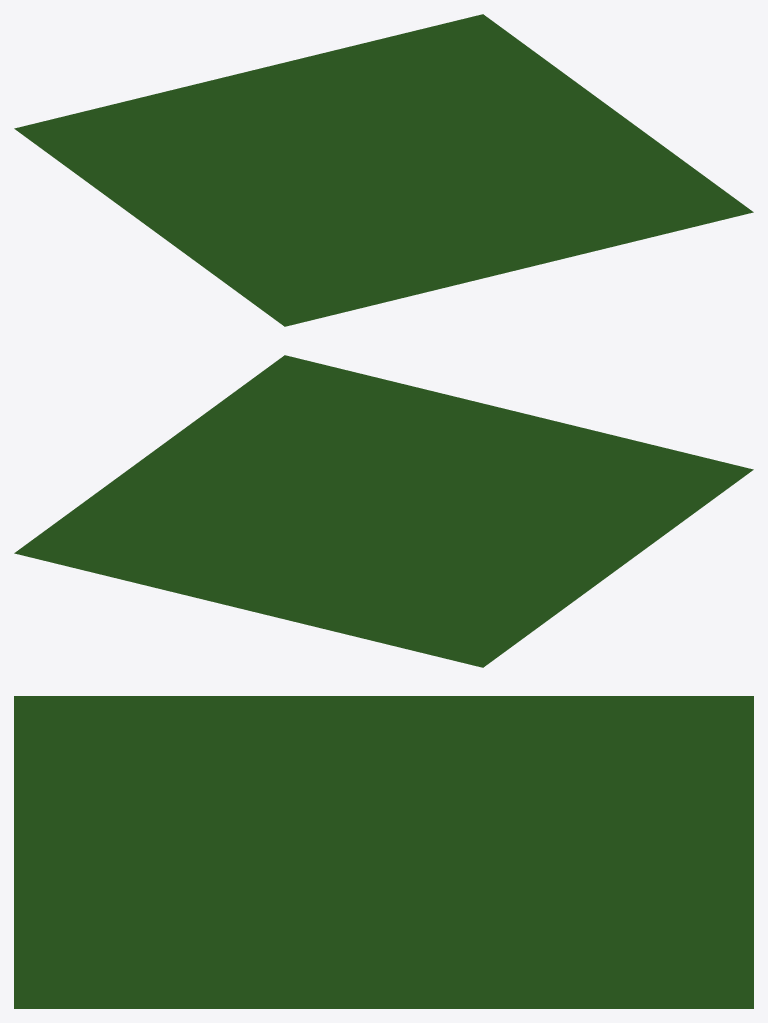
The model's file is ground_plane.glb.
3 views of the same model, one above another, from view 1: azimuth 30°, elevation 25°; view 2: azimuth 150°, elevation 25°; view 3: azimuth 270°, elevation 25° (orthographic). The views are drawn at different scales.
Parts seen in each view (by area): view 1: Plane; view 2: Plane; view 3: Plane.
Boxes of the visible parts, x1=… form: Plane: x1=14, y1=14, x2=753, y2=326; Plane: x1=14, y1=355, x2=753, y2=667; Plane: x1=14, y1=696, x2=753, y2=1008.
Size of the model in its own units: 200 by 0 by 200.
